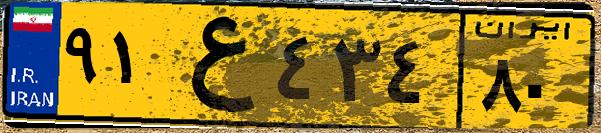0: (525, 38, 570, 115)
1: (110, 28, 158, 98)
3: (330, 28, 385, 110)
4: (270, 28, 330, 110), (385, 28, 445, 110)
8: (475, 38, 525, 113)
9: (57, 26, 110, 100)
ع: (158, 12, 270, 120)
